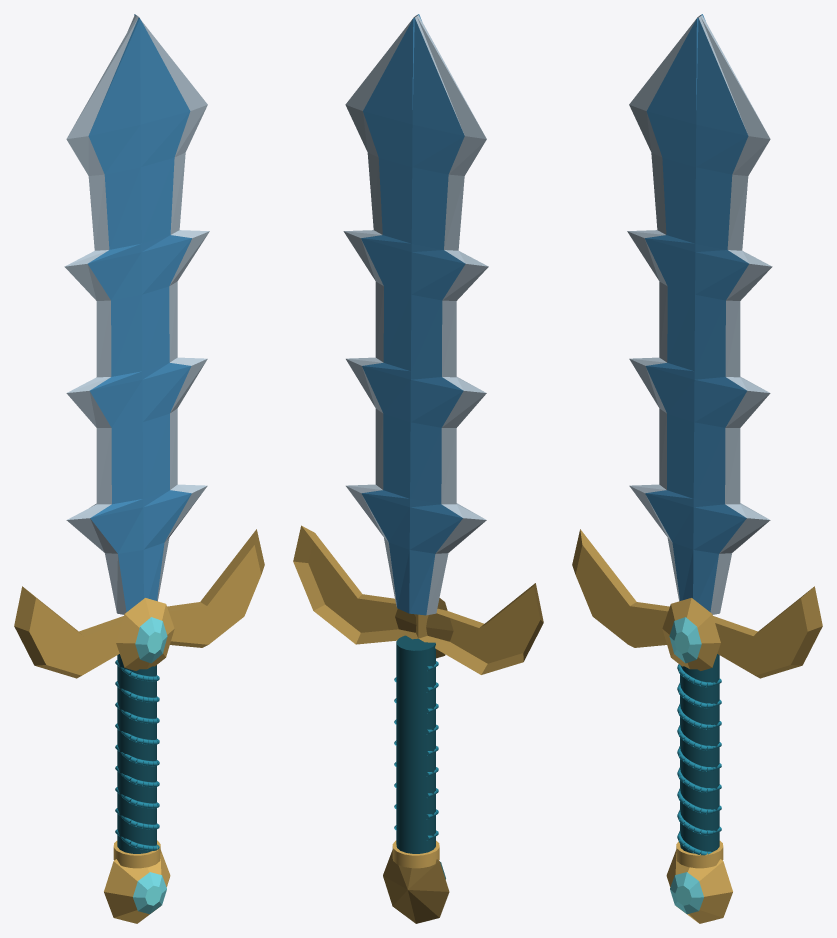
Rendered from Frost.obj.
The picture shows the model from 3 angles, left to right: view 1: azimuth 30°, elevation 25°; view 2: azimuth 150°, elevation 25°; view 3: azimuth 330°, elevation 25°; orthographic projection.
Parts seen in each view (by area): view 1: Frost; view 2: Frost; view 3: Frost.
Boxes of the visible parts, left/top/right/bottom form: Frost: left=14, top=14, right=264, bottom=923; Frost: left=293, top=14, right=543, bottom=923; Frost: left=572, top=14, right=822, bottom=923.
Size of the model in its own units: 12.4 by 42.9 by 2.54.
